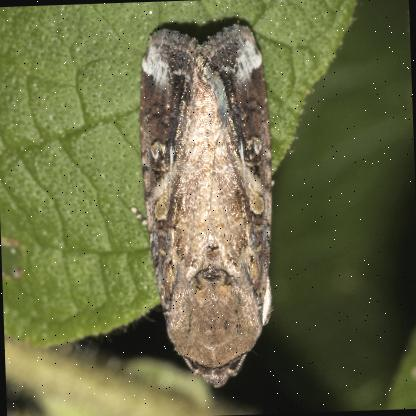Fall Armyworm Moth: (119, 14, 288, 393)
